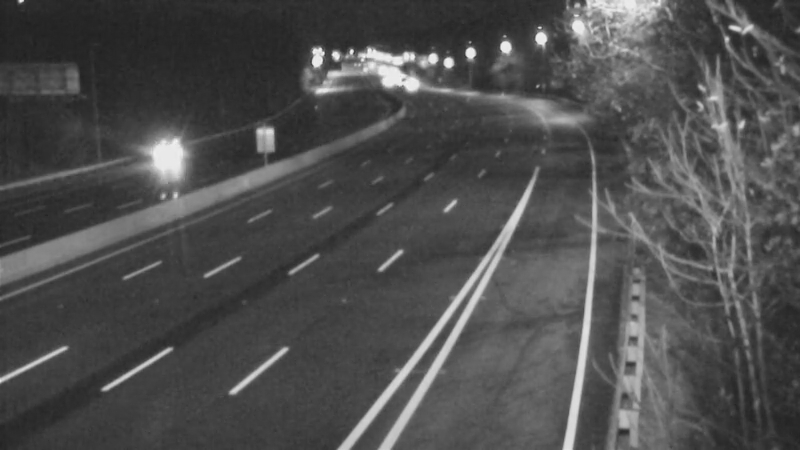vehicle: (123, 118, 203, 198), (383, 60, 433, 110)
